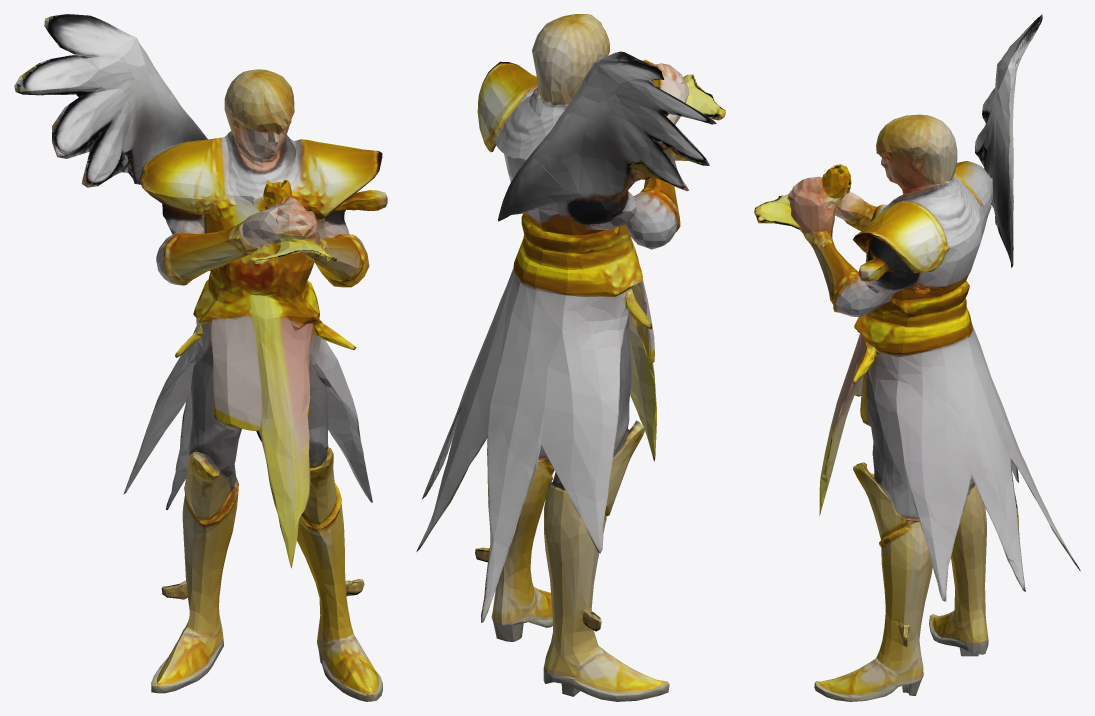
File: AngelEnemy.glb
3 views of the same model, side by side, from view 1: azimuth 30°, elevation 25°; view 2: azimuth 150°, elevation 25°; view 3: azimuth 270°, elevation 25° (orthographic). The views are drawn at different scales.
Size of the model in its own units: 51.26 by 100 by 50.32.
1 material, 1 textured.
